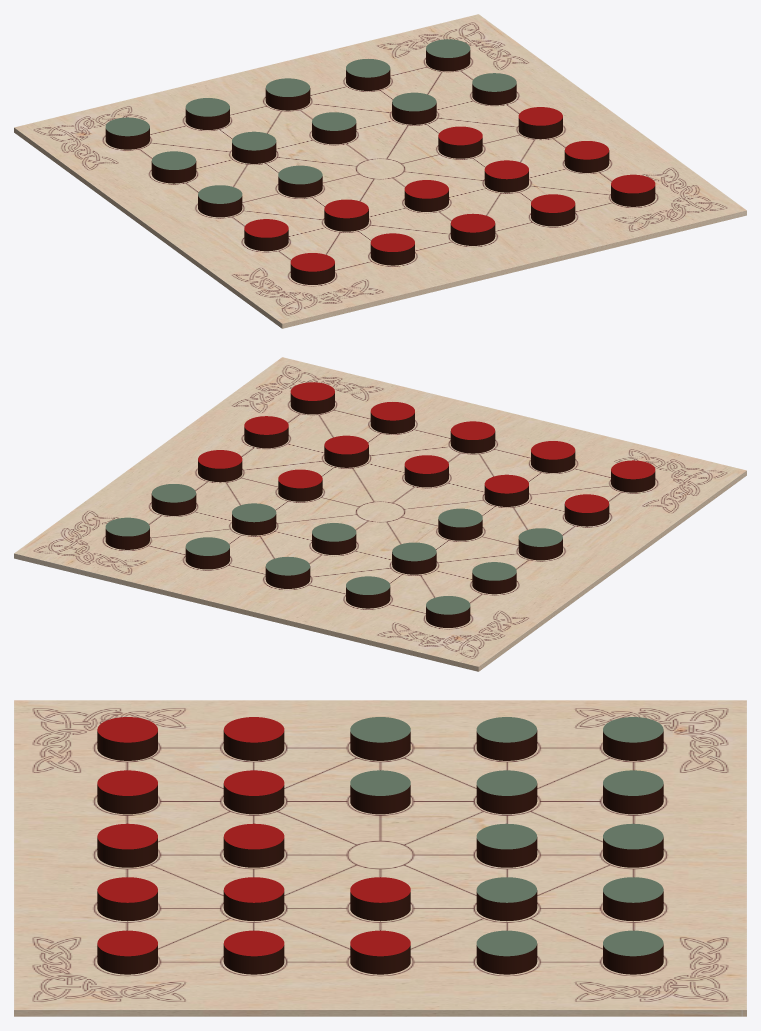
File: akl.glb
3 views of the same model, one above another, from view 1: azimuth 30°, elevation 25°; view 2: azimuth 150°, elevation 25°; view 3: azimuth 270°, elevation 25° (orthographic). The views are drawn at different scales.
Parts seen in each view (by area): view 1: Cube, Cylinder.010, Cylinder.007, Cylinder.016, Cylinder.024, Cylinder.009, Cylinder.019, Cylinder.021, Cylinder, Cylinder.006, Cylinder.023, Cylinder.008 (+13 smaller); view 2: Cube, Cylinder.016, Cylinder.013, Cylinder.010, Cylinder.011, Cylinder.019, Cylinder.022, Cylinder.003, Cylinder.006, Cylinder.012, Cylinder.014, Cylinder.002 (+13 smaller); view 3: Cube, Cylinder.003, Cylinder.011, Cylinder.021, Cylinder.024, Cylinder.007, Cylinder.013, Cylinder.009, Cylinder.022, Cylinder.012, Cylinder.023, Cylinder.002 (+13 smaller).
Part boxes in pixels (x1=…): Cube: x1=14, y1=14, x2=746, y2=328; Cylinder.010: x1=265, y1=78, x2=310, y2=110; Cylinder.007: x1=151, y1=151, x2=196, y2=183; Cylinder.016: x1=450, y1=213, x2=495, y2=245; Cylinder.024: x1=564, y1=141, x2=609, y2=172; Cylinder.009: x1=312, y1=112, x2=356, y2=144; Cylinder.019: x1=438, y1=126, x2=482, y2=158; Cylinder.021: x1=324, y1=199, x2=368, y2=231; Cylinder: x1=105, y1=117, x2=149, y2=149; Cylinder.006: x1=278, y1=165, x2=322, y2=197; Cylinder.023: x1=484, y1=160, x2=528, y2=192; Cylinder.008: x1=198, y1=185, x2=242, y2=217; Cube: x1=14, y1=357, x2=746, y2=671; Cylinder.016: x1=450, y1=421, x2=495, y2=453; Cylinder.013: x1=564, y1=494, x2=609, y2=526; Cylinder.010: x1=265, y1=556, x2=310, y2=588; Cylinder.011: x1=151, y1=484, x2=196, y2=515; Cylinder.019: x1=278, y1=469, x2=322, y2=501; Cylinder.022: x1=404, y1=455, x2=448, y2=487; Cylinder.003: x1=392, y1=542, x2=436, y2=574; Cylinder.006: x1=438, y1=508, x2=482, y2=540; Cylinder.012: x1=232, y1=503, x2=276, y2=535; Cylinder.014: x1=611, y1=460, x2=655, y2=492; Cylinder.002: x1=346, y1=576, x2=390, y2=608; Cube: x1=14, y1=700, x2=746, y2=1016; Cylinder.003: x1=476, y1=770, x2=537, y2=814; Cylinder.011: x1=476, y1=930, x2=537, y2=974; Cylinder.021: x1=223, y1=770, x2=284, y2=814; Cylinder.024: x1=223, y1=930, x2=284, y2=974; Cylinder.007: x1=476, y1=717, x2=537, y2=760; Cylinder.013: x1=223, y1=717, x2=284, y2=760; Cylinder.009: x1=476, y1=823, x2=537, y2=867; Cylinder.022: x1=223, y1=823, x2=284, y2=867; Cylinder.012: x1=476, y1=877, x2=537, y2=921; Cylinder.023: x1=223, y1=877, x2=284, y2=921; Cylinder.002: x1=603, y1=770, x2=663, y2=814.
Bounding box in the file's own units: 2.9 × 0.1105 × 2.9.
6 materials, 1 textured.
